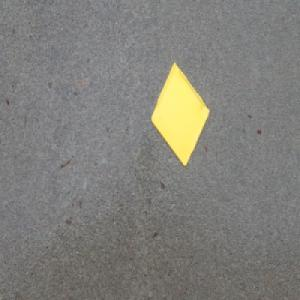PlasticPart: (150, 61, 211, 168)
